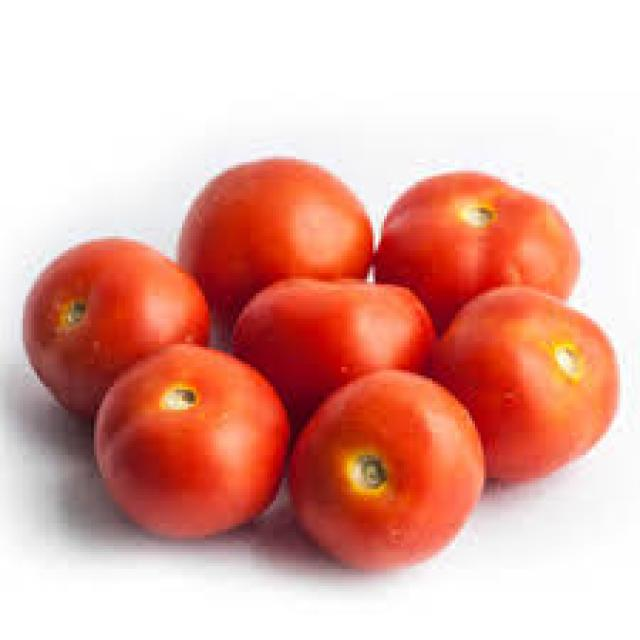Fresh_tomato: (63, 352, 279, 540), (451, 277, 603, 485), (25, 232, 207, 396), (317, 376, 475, 551), (393, 169, 581, 300), (174, 158, 364, 285), (247, 275, 433, 382)
